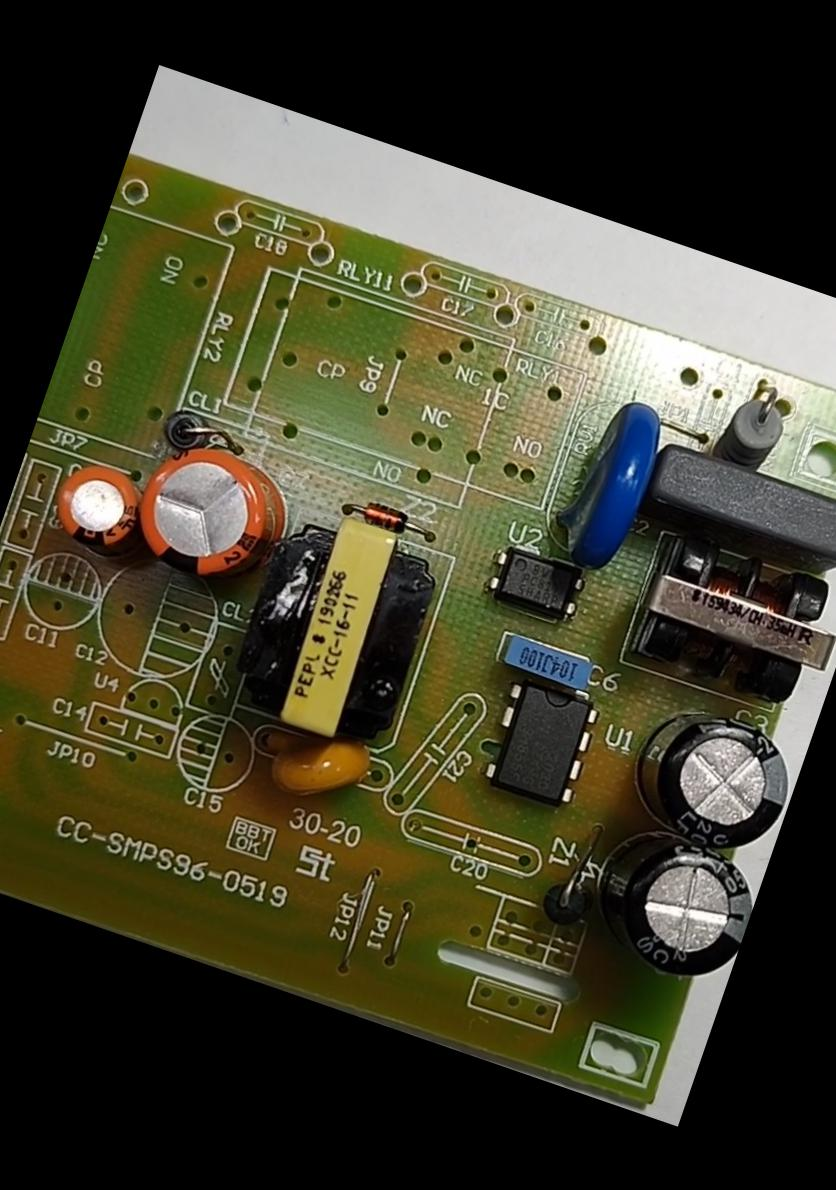Cap1: (116, 420, 306, 606)
Cap2: (37, 447, 154, 567)
Cap3: (608, 682, 810, 873)
Cap4: (568, 808, 768, 1001)
MOSFET: (470, 662, 613, 820)
Mov: (538, 382, 688, 588)
Resistor: (706, 361, 814, 480)
Transformer: (221, 492, 458, 764), (618, 521, 835, 732)
